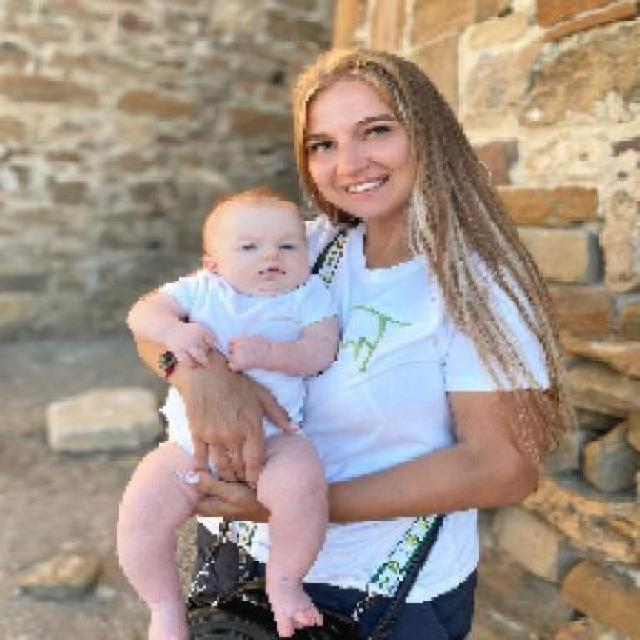child: (114, 185, 343, 638)
